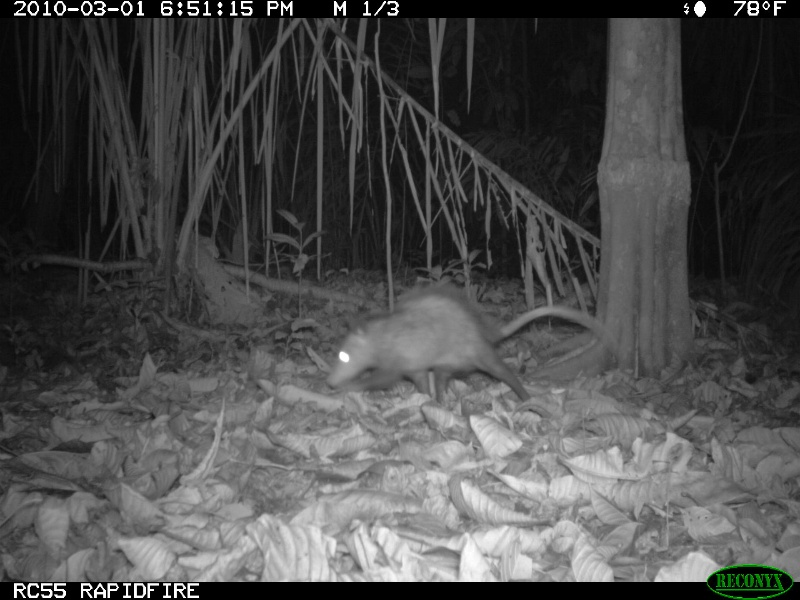opossum: (324, 283, 615, 404)
